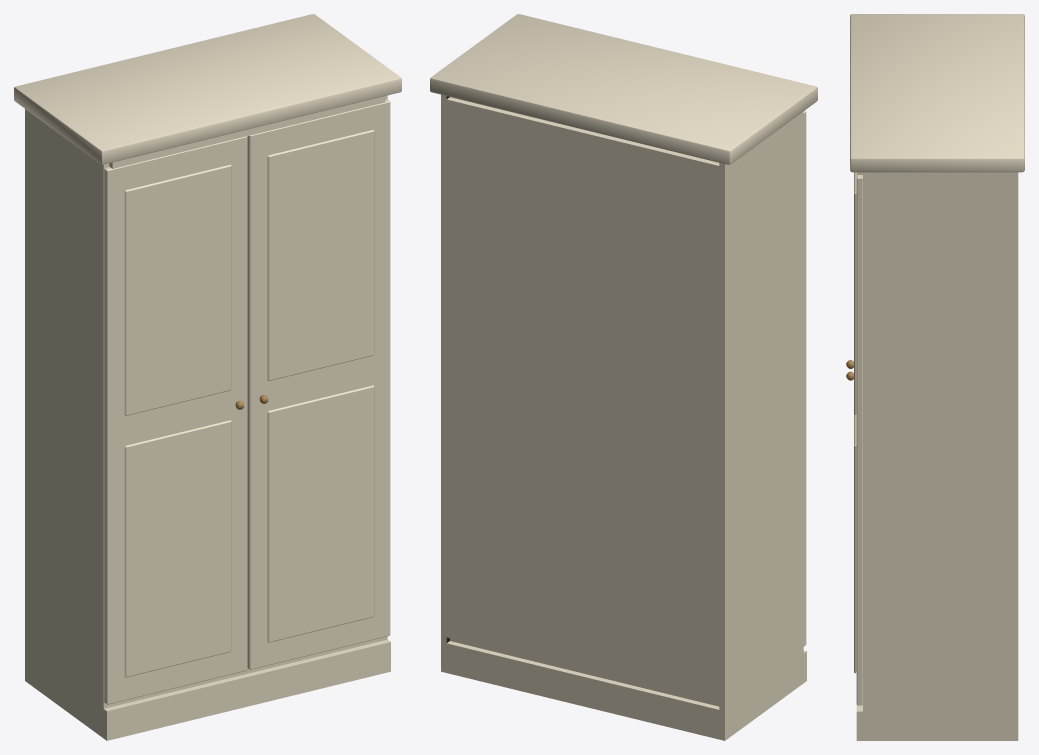
File: linen_cupboard.glb
The picture shows the model from 3 angles, left to right: view 1: azimuth 30°, elevation 25°; view 2: azimuth 150°, elevation 25°; view 3: azimuth 270°, elevation 25°; orthographic projection.
Visible parts, largest first — view 1: linen_cupboard, door_L, door_R; view 2: linen_cupboard, door_L; view 3: linen_cupboard, door_R.
Boxes of the visible parts, x1,y1,x2,y2 form: linen_cupboard: (14,14,401,740); door_L: (104,136,247,704); door_R: (247,99,390,669); linen_cupboard: (430,14,817,740); door_L: (803,110,806,646); linen_cupboard: (850,14,1024,740); door_R: (846,172,862,705).
Size of the model in its own units: 1.06 by 2 by 0.552.
